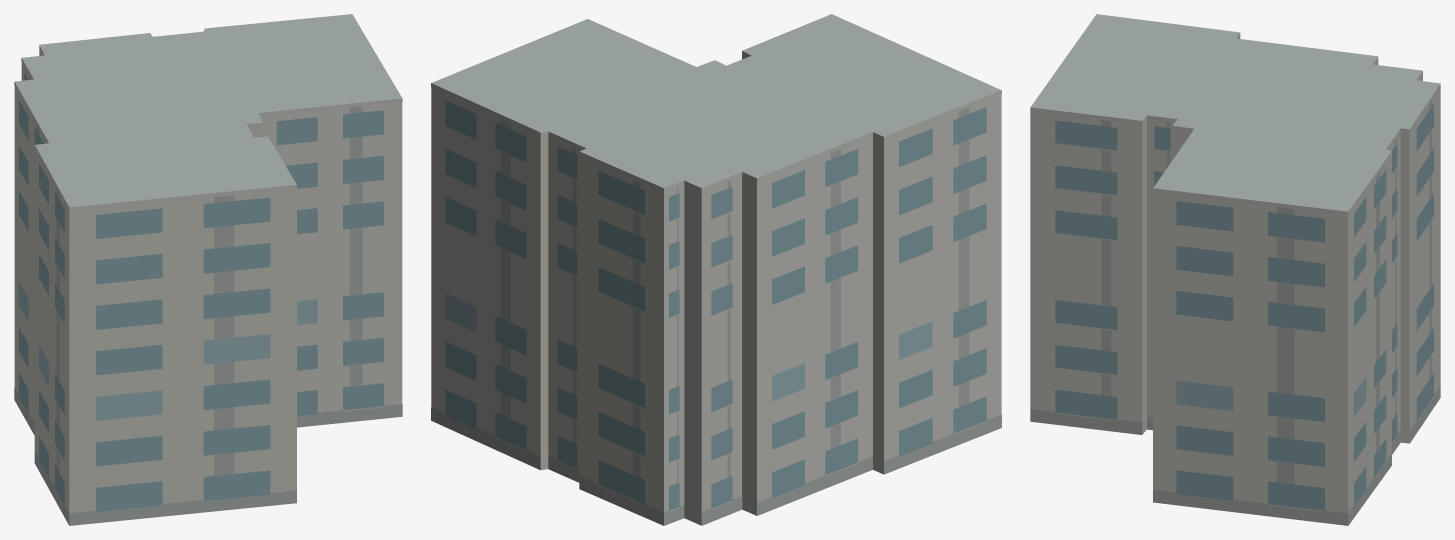
File: survey-upis-32874453.glb
The picture shows the model from 3 angles, left to right: view 1: azimuth 30°, elevation 25°; view 2: azimuth 150°, elevation 25°; view 3: azimuth 270°, elevation 25°; orthographic projection. The views are drawn at different scales.
Visible parts, largest first — view 1: survey-upis-32874453.tmp; view 2: survey-upis-32874453.tmp; view 3: survey-upis-32874453.tmp.
Boxes of the visible parts, x1=… form: survey-upis-32874453.tmp: x1=14, y1=14, x2=402, y2=525; survey-upis-32874453.tmp: x1=431, y1=14, x2=1001, y2=525; survey-upis-32874453.tmp: x1=1030, y1=14, x2=1440, y2=525.
Size of the model in its own units: 26.72 by 19.8 by 23.44.
